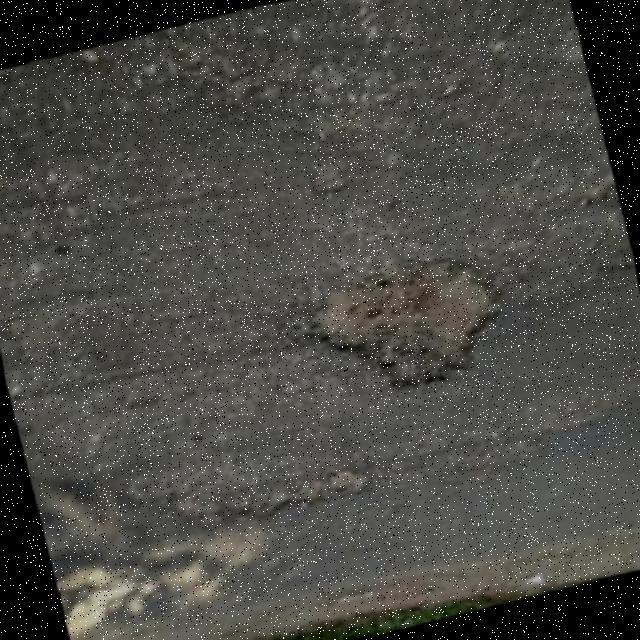Pothole: (315, 256, 500, 386)
